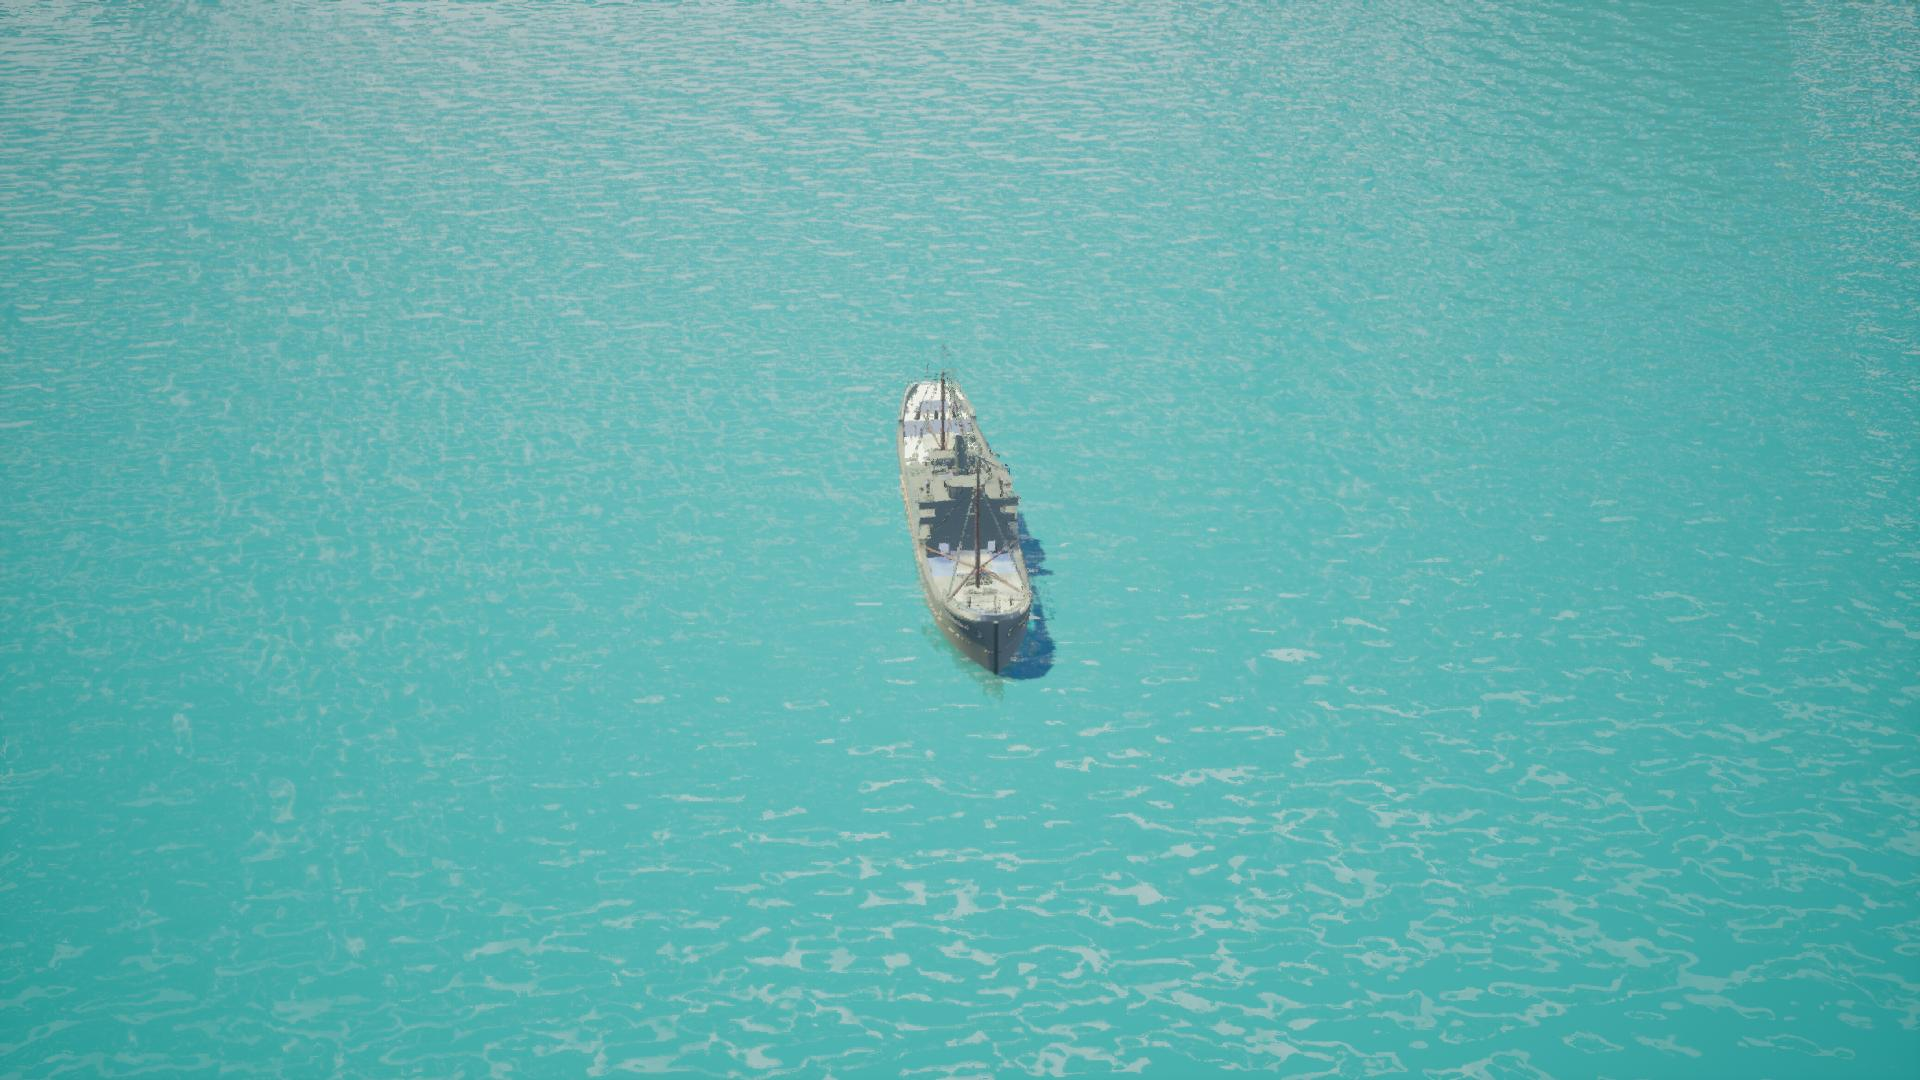Fishing Boat: (894, 371, 1051, 688)
